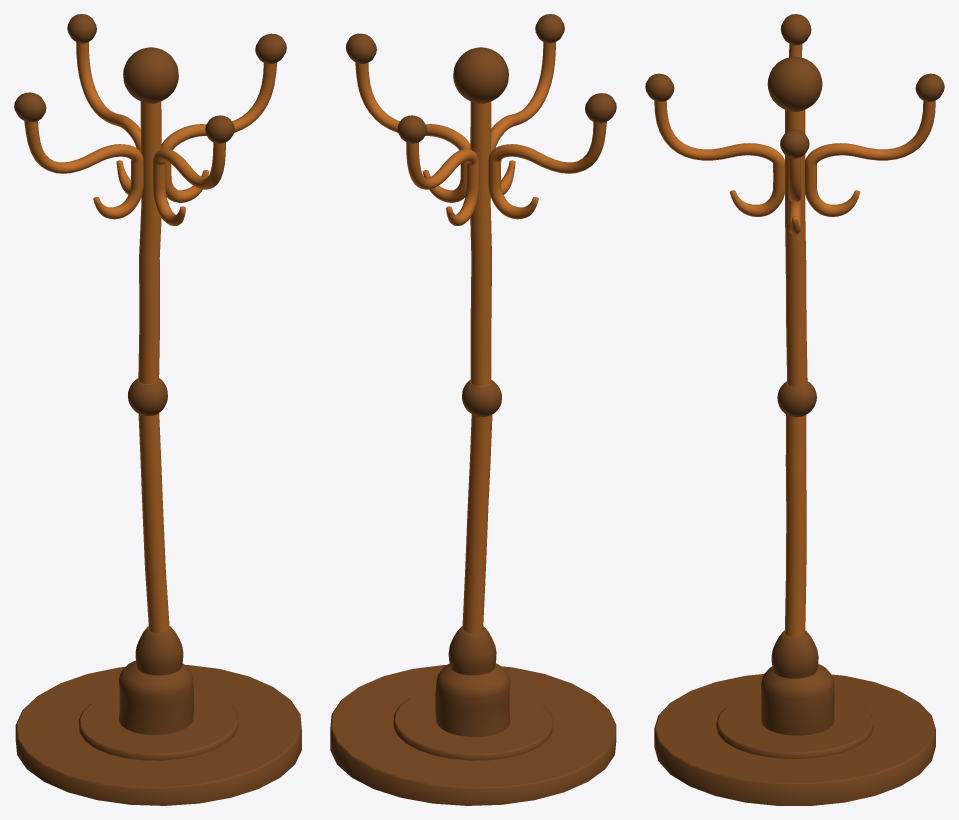
Rendered from Jacket_hanger.glb.
The picture shows the model from 3 angles, left to right: view 1: azimuth 30°, elevation 25°; view 2: azimuth 150°, elevation 25°; view 3: azimuth 270°, elevation 25°; orthographic projection.
Parts seen in each view (by area): view 1: Hanger; view 2: Hanger; view 3: Hanger.
Part boxes in pixels (left/top/right/bottom): Hanger: left=14, top=14, right=301, bottom=805; Hanger: left=330, top=14, right=616, bottom=805; Hanger: left=645, top=14, right=944, bottom=805.
Size of the model in its own units: 0.7529 by 1.87 by 0.7429.
Materials: 2 (1 with a texture image).
